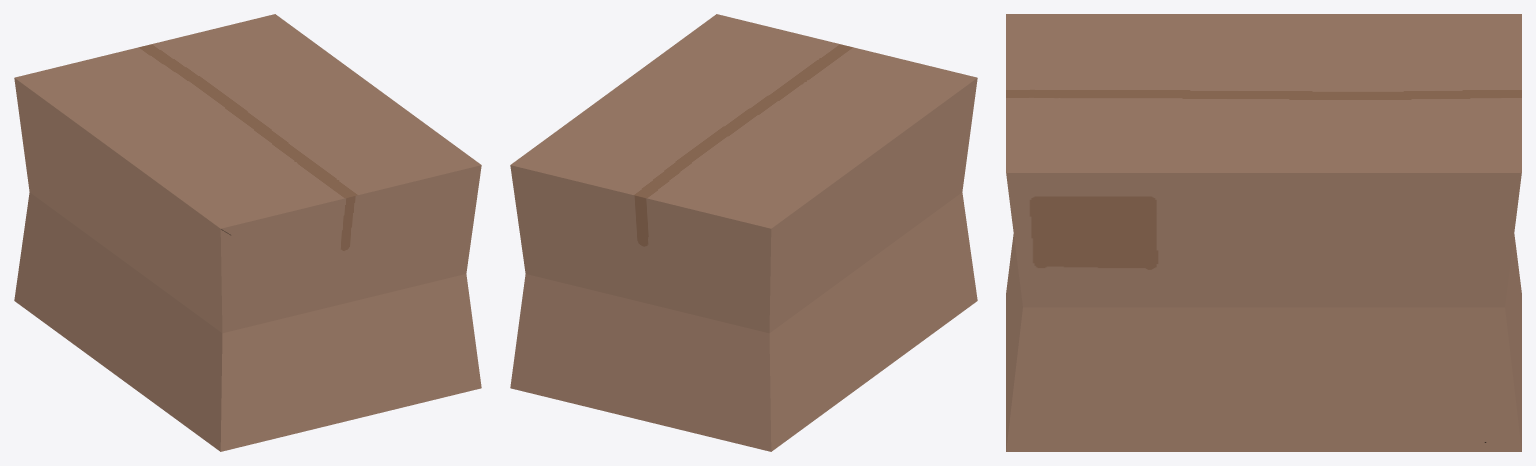
3 views of the same model, side by side, from view 1: azimuth 30°, elevation 25°; view 2: azimuth 150°, elevation 25°; view 3: azimuth 270°, elevation 25° (orthographic). The views are drawn at different scales.
Parts seen in each view (by area): view 1: box2; view 2: box2; view 3: box2.
Boxes of the visible parts, bbox=[...] form: box2: bbox=[14, 14, 481, 451]; box2: bbox=[510, 14, 977, 451]; box2: bbox=[1006, 14, 1521, 451].
Bounding box in the file's own units: 1.6 × 1.31 × 2.19.
1 material, 1 textured.
